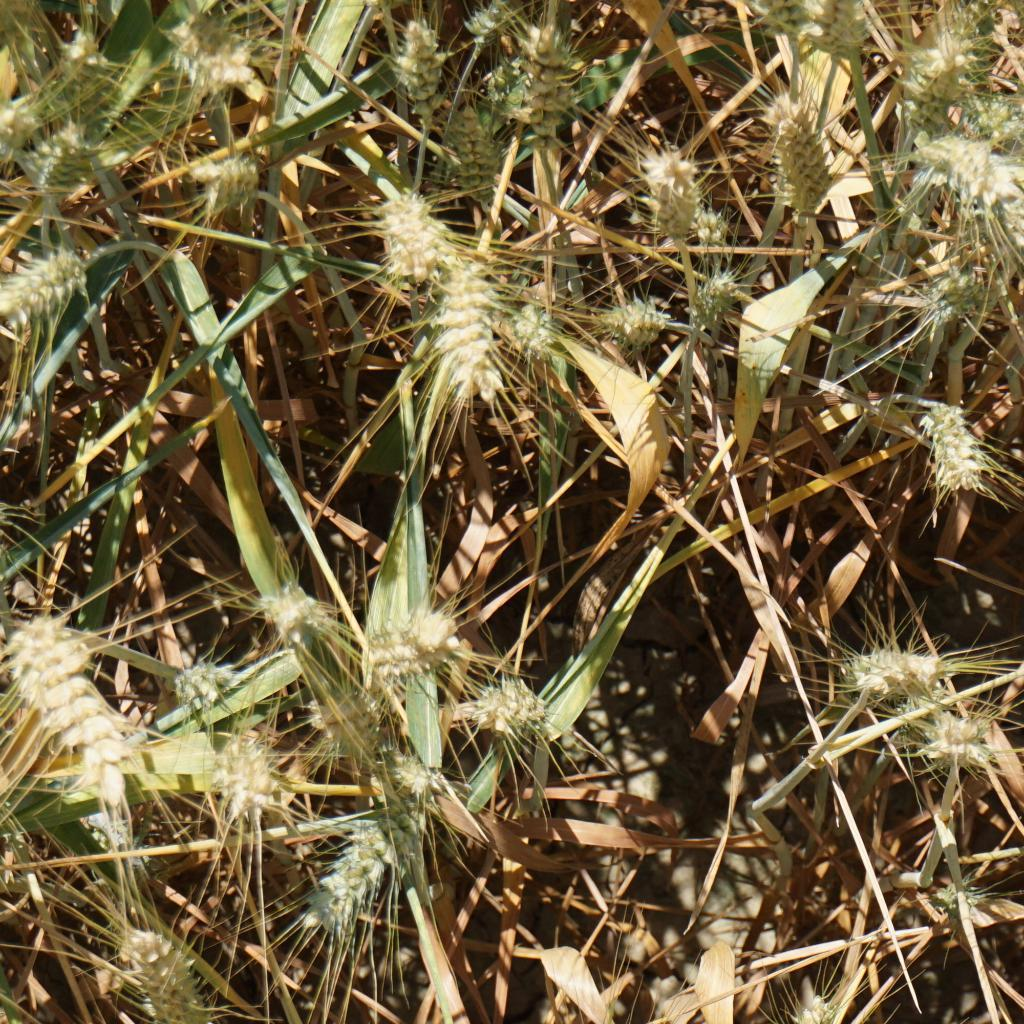0-0: (0, 609, 135, 811), (301, 780, 445, 951), (425, 245, 522, 402), (108, 910, 218, 1024), (924, 140, 1024, 265), (299, 663, 394, 777), (755, 97, 837, 215), (438, 104, 521, 210), (168, 17, 268, 98), (368, 186, 454, 280), (450, 668, 550, 743), (921, 400, 996, 499), (889, 33, 962, 132), (34, 111, 113, 201), (390, 20, 453, 131), (636, 141, 704, 241), (201, 724, 275, 814), (371, 739, 451, 822), (0, 245, 82, 325), (183, 149, 277, 218), (899, 137, 1010, 194), (166, 651, 247, 728), (843, 643, 953, 698), (513, 37, 576, 132), (363, 603, 462, 660), (51, 27, 129, 97), (266, 570, 338, 640), (681, 263, 748, 338), (581, 293, 668, 350), (498, 302, 573, 363), (451, 0, 526, 58), (959, 89, 1024, 152), (913, 713, 989, 766), (916, 260, 983, 319), (0, 100, 49, 168), (930, 865, 987, 918), (822, 0, 868, 60), (758, 0, 814, 49), (688, 197, 730, 246), (787, 1004, 846, 1024)
